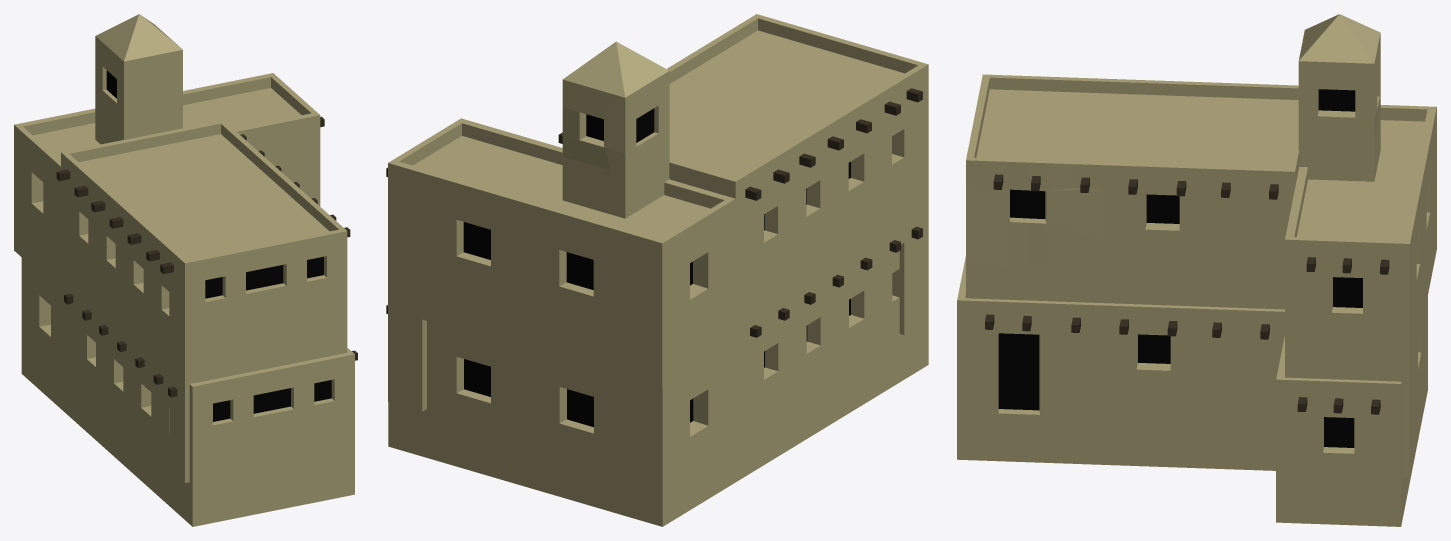
Rendered from Double house.fbx.
3 renders of one model, left to right at view 1: azimuth 30°, elevation 25°; view 2: azimuth 150°, elevation 25°; view 3: azimuth 270°, elevation 25°, orthographic. The views are drawn at different scales.
Visible parts, largest first — view 1: polySurface162; view 2: polySurface162; view 3: polySurface162.
Boxes of the visible parts, <box> form: polySurface162: <box>14,14,357,526</box>; polySurface162: <box>386,14,928,526</box>; polySurface162: <box>957,14,1436,526</box>.
Bounding box in the file's own units: 996 × 1174 × 1217.
